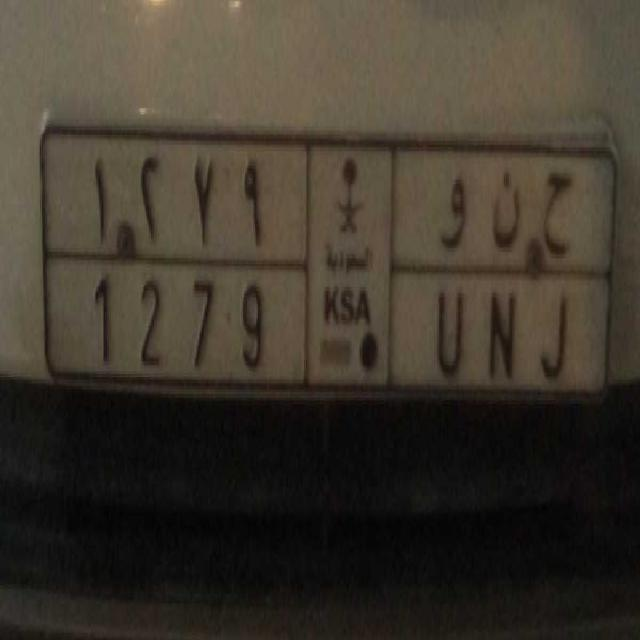license_plate: (48, 256, 608, 402)
